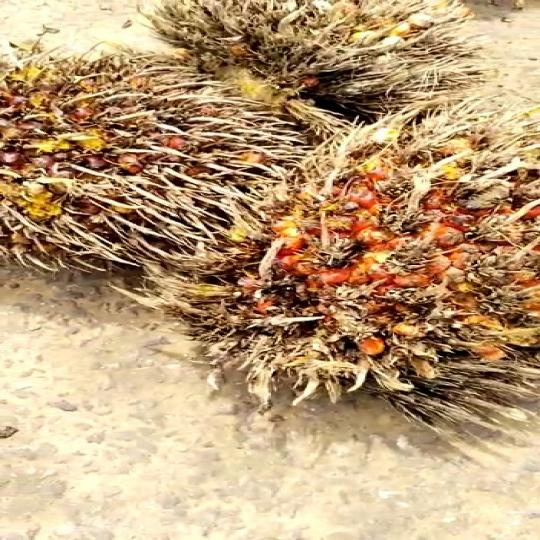terlalu masak: (158, 141, 540, 400), (164, 0, 483, 142)
